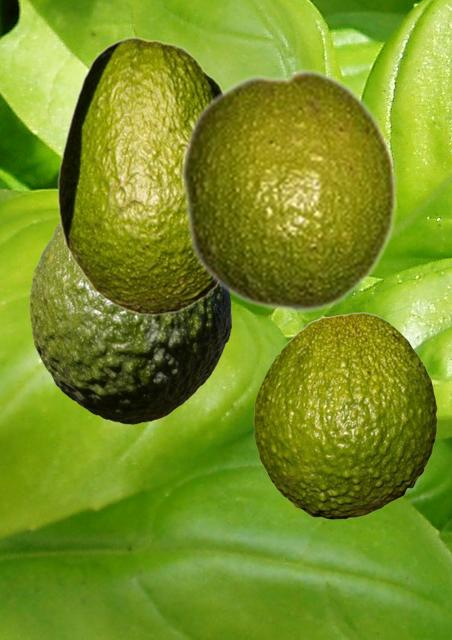avocado: (179, 67, 398, 314), (57, 36, 224, 315), (29, 222, 230, 423), (253, 312, 436, 518)
